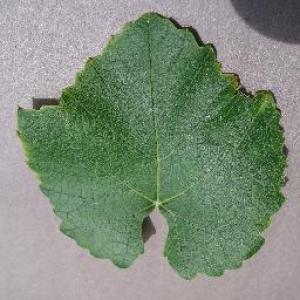Folha: (16, 9, 288, 280)
